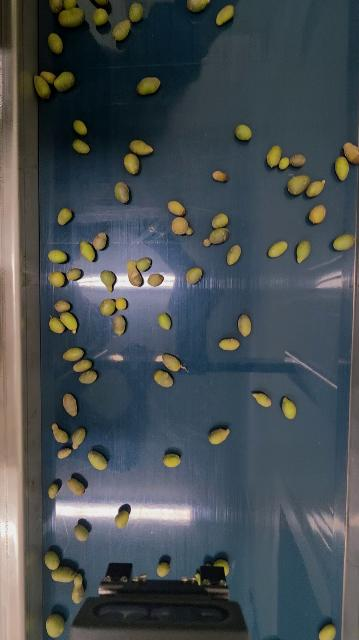Baby Potato: (57, 6, 86, 29), (46, 611, 66, 639), (287, 173, 311, 196), (33, 73, 53, 100), (203, 227, 230, 247), (215, 3, 236, 27), (126, 259, 144, 287), (333, 232, 357, 253), (137, 76, 162, 96), (54, 70, 76, 92), (171, 216, 194, 237), (112, 18, 132, 41), (335, 155, 352, 181), (71, 573, 85, 604), (60, 310, 78, 334), (208, 427, 232, 445), (129, 139, 154, 156), (281, 395, 298, 420), (162, 352, 183, 372), (268, 239, 289, 259), (153, 369, 175, 388), (267, 143, 283, 169), (52, 565, 75, 583), (62, 393, 79, 417), (296, 239, 312, 264), (307, 179, 327, 199), (309, 203, 328, 224), (88, 450, 107, 471), (252, 390, 274, 408), (226, 243, 243, 266), (47, 32, 64, 55), (123, 152, 140, 175), (343, 140, 359, 164), (51, 423, 69, 444), (238, 313, 253, 338), (79, 240, 96, 262), (114, 181, 130, 204), (128, 1, 144, 23), (63, 346, 85, 362), (185, 0, 214, 12), (71, 427, 86, 450), (101, 270, 116, 293), (319, 622, 338, 640), (47, 248, 68, 264), (212, 212, 230, 230), (235, 123, 253, 141), (186, 266, 203, 285), (67, 478, 86, 495), (48, 316, 65, 335), (92, 7, 109, 26), (44, 550, 60, 570), (56, 207, 72, 226), (163, 452, 182, 468), (113, 315, 127, 336), (220, 337, 241, 351), (48, 271, 65, 288), (168, 200, 186, 216), (72, 138, 90, 154), (73, 358, 93, 372), (100, 298, 115, 316), (78, 370, 97, 384), (115, 509, 129, 528), (291, 152, 307, 168), (73, 119, 88, 136), (93, 232, 107, 250), (158, 312, 172, 330), (148, 272, 164, 287), (48, 481, 60, 500), (74, 525, 88, 541), (54, 299, 71, 312), (137, 257, 152, 271), (157, 561, 170, 577), (66, 268, 82, 281), (219, 558, 230, 576), (48, 0, 63, 13), (212, 170, 228, 182), (40, 71, 56, 83), (57, 447, 72, 459), (115, 297, 128, 310), (279, 156, 291, 170), (86, 0, 110, 7), (63, 0, 77, 10)
